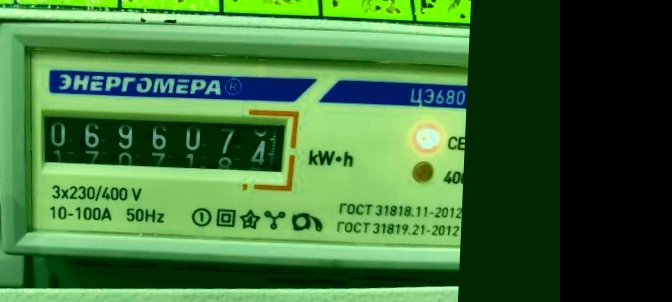0: (46, 119, 68, 148), (183, 122, 202, 152), (82, 120, 100, 147)
4: (248, 138, 266, 166)
6: (148, 120, 167, 151)
7: (216, 124, 235, 154)
9: (115, 121, 134, 150)
screen: (23, 95, 301, 191)
